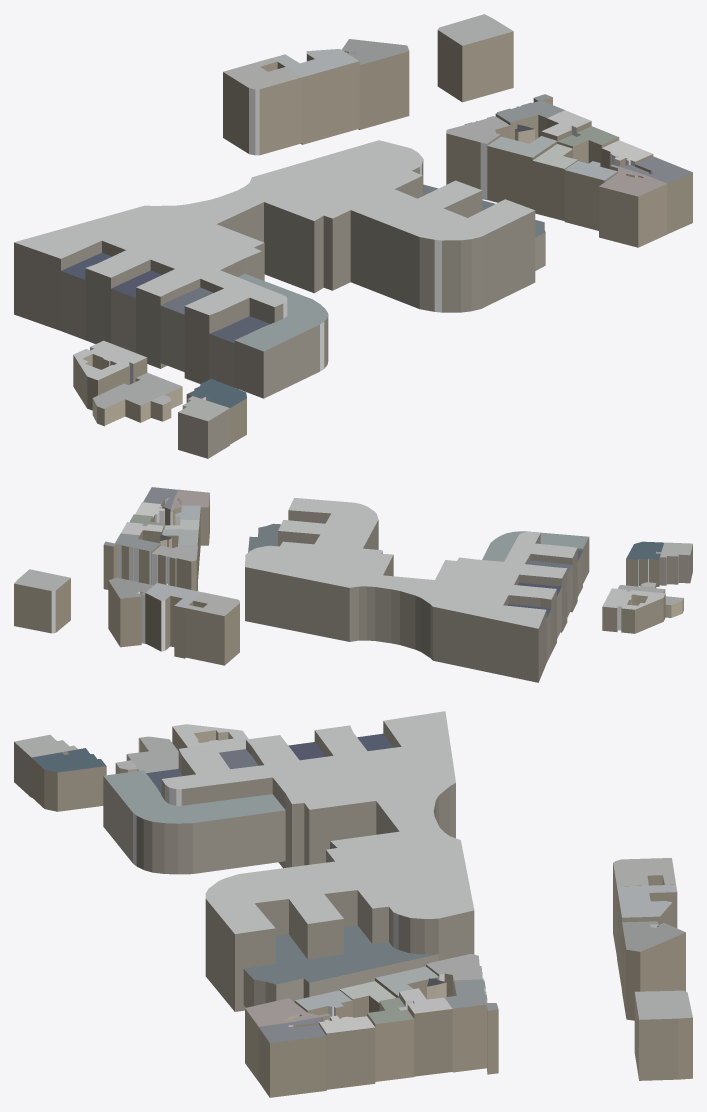
3 views of the same model, one above another, from view 1: azimuth 30°, elevation 25°; view 2: azimuth 150°, elevation 25°; view 3: azimuth 270°, elevation 25° (orthographic). The views are drawn at different scales.
Parts seen in each view (by area): view 1: tuile; view 2: tuile; view 3: tuile.
Part boxes in pixels (<box>): tuile: <box>14,14,692,458</box>; tuile: <box>14,487,692,682</box>; tuile: <box>14,711,692,1097</box>.
Bounding box in the file's own units: 275 × 35.94 × 230.
